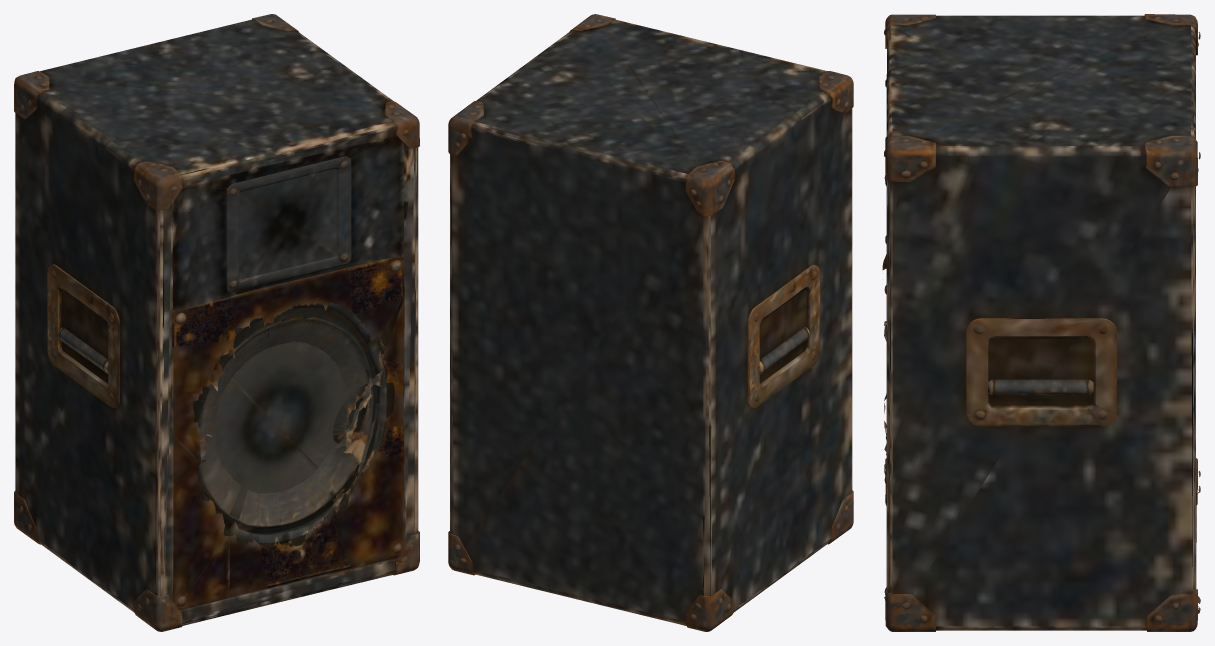
File: baile-caixa-som.glb
3 views of the same model, side by side, from view 1: azimuth 30°, elevation 25°; view 2: azimuth 150°, elevation 25°; view 3: azimuth 270°, elevation 25° (orthographic). The views are drawn at different scales.
Visible parts, largest first — view 1: geometry_0; view 2: geometry_0; view 3: geometry_0.
Boxes of the visible parts, x1,y1,x2,y2 form: geometry_0: [14, 14, 419, 631]; geometry_0: [448, 14, 853, 631]; geometry_0: [882, 14, 1200, 631].
Bounding box in the file's own units: 0.5903 × 0.9517 × 0.563.
1 material, 1 textured.
